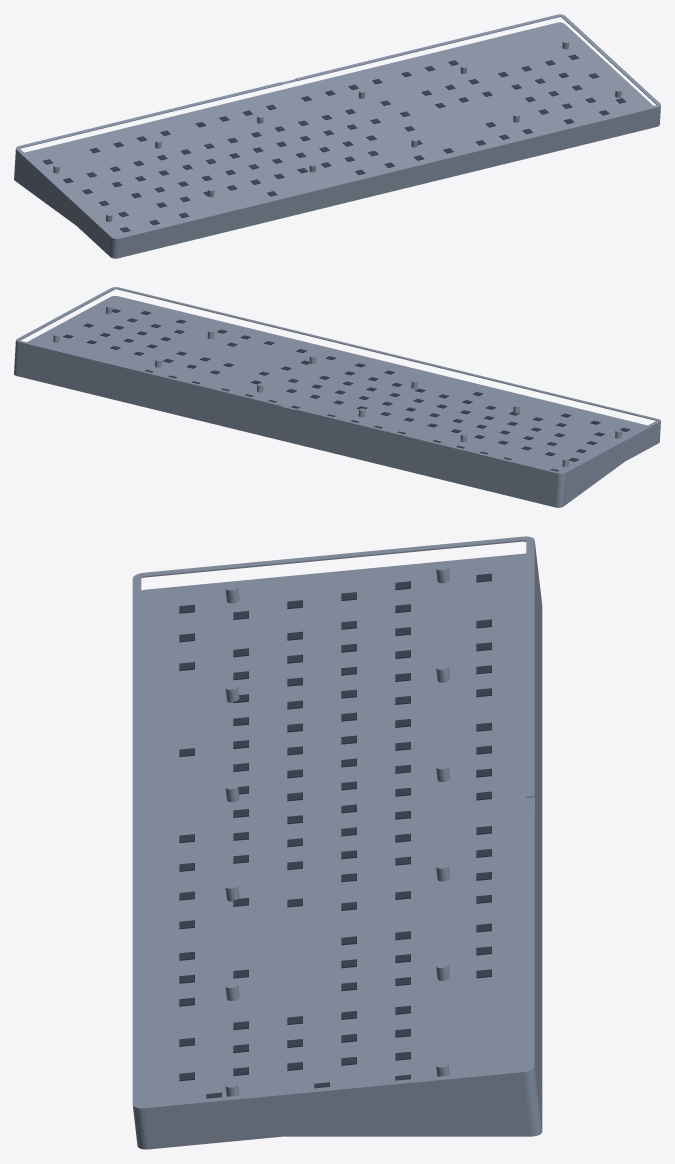
The model's file is reference-full.glb.
3 renders of one model, top to bottom at view 1: azimuth 30°, elevation 25°; view 2: azimuth 150°, elevation 25°; view 3: azimuth 270°, elevation 25°, orthographic. The views are drawn at different scales.
Parts seen in each view (by area): view 1: bottomCase/case-bottom, topCase/case-top, switches/switches; view 2: bottomCase/case-bottom, topCase/case-top, switches/switches; view 3: bottomCase/case-bottom, switches/switches, topCase/case-top.
Boxes of the visible parts, x1,y1,x2,y2 form: bottomCase/case-bottom: (14,14,660,251); topCase/case-top: (14,118,660,258); switches/switches: (43,54,626,232); bottomCase/case-bottom: (14,287,660,507); topCase/case-top: (14,355,660,495); switches/switches: (63,309,630,471); bottomCase/case-bottom: (132,536,542,1136); switches/switches: (179,573,491,1098); topCase/case-top: (136,1093,539,1149).
Size of the model in its own units: 1.46e+07 by 1077808 by 4709580.
